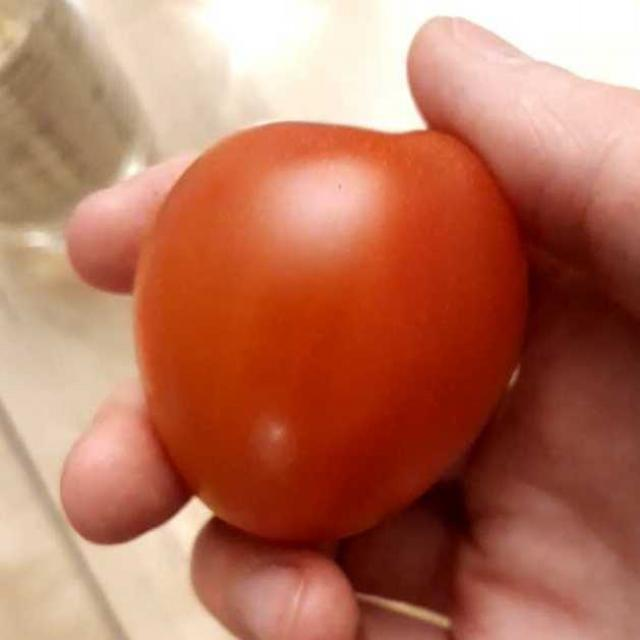tomato: (128, 133, 525, 537)
